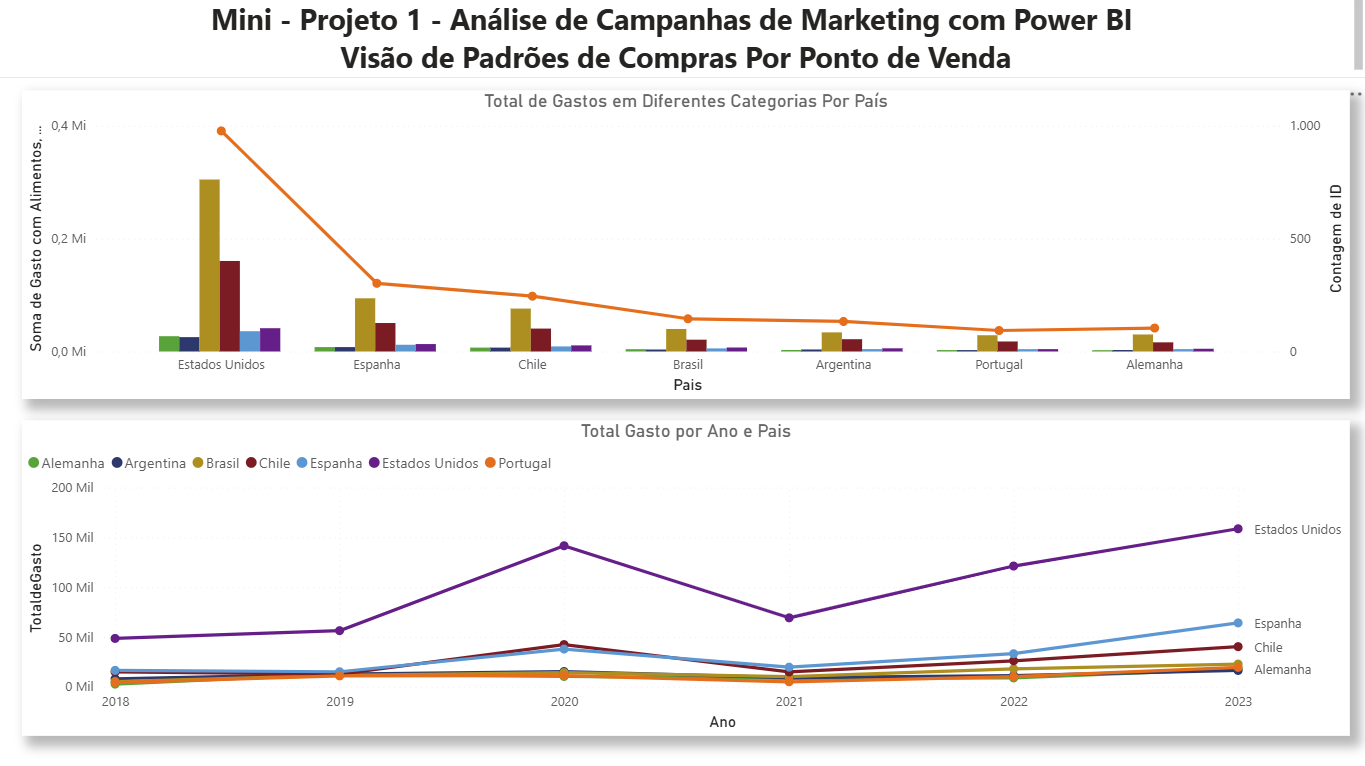

Layout of this report page (visuals, bound fields, positions):
{"tool":"powerbi","page":{"name":"Visão  de  Padrões de Vendas ","canvas":[1280,720],"ordinal":3},"visuals":[{"type":"textbox","box":[0,0,1280.2,77.9],"z":0},{"type":"lineClusteredColumnComboChart","title":"Total de Gastos em Diferentes Categorias Por País","fields":{"Category":["Dados Marketing.Pais"],"Y":["Sum(Dados Marketing.Gasto com Alimentos)","Sum(Dados Marketing.Gasto com Brinquedos)","Sum(Dados Marketing.Gasto com Eletronicos)","Sum(Dados Marketing.Gasto com Moveis)","Sum(Dados Marketing.Gasto com Utilidades)","Sum(Dados Marketing.Gasto com Vestuario)"],"Y2":["CountNonNull(Dados Marketing.ID)"]},"box":[27.3,89.4,1235.4,287],"z":1000},{"type":"lineChart","title":"Total Gasto por Ano e Pais","fields":{"Y":["Dados Marketing.TotaldeGasto"],"Series":["Dados Marketing.Pais"],"Category":["Dados Marketing.Data Cadastro.Variation.Hierarquia de datas.Ano"]},"box":[27.3,396.4,1235.4,293.3],"z":2000}]}

Visuals, with their boxes in screenshot pixels (x1, y1, x2, y2), scaled from the page's 1280x720 canvas onto the 1365x766 screenshot:
textbox: {"x1": 0, "y1": 0, "x2": 1364, "y2": 83}
"Total de Gastos em Diferentes Categorias Por País" lineClusteredColumnComboChart: {"x1": 29, "y1": 95, "x2": 1347, "y2": 400}
"Total Gasto por Ano e Pais" lineChart: {"x1": 29, "y1": 422, "x2": 1347, "y2": 734}
